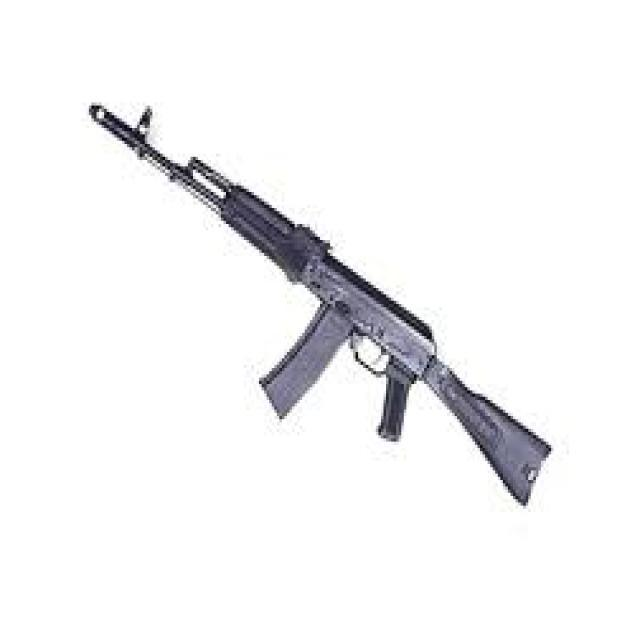weapon: (88, 100, 554, 509)
